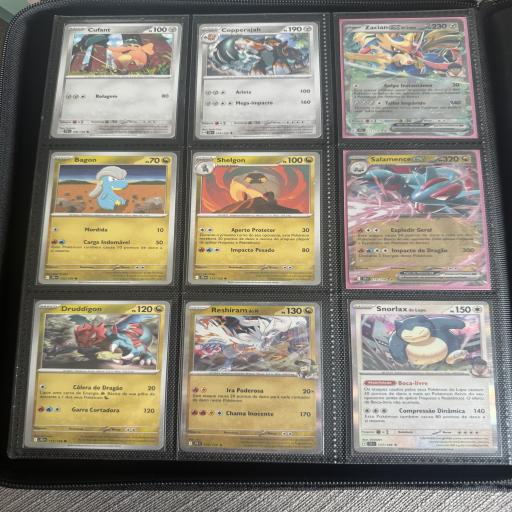card: (350, 296, 499, 457), (180, 298, 327, 454), (24, 299, 170, 450), (347, 150, 488, 287), (39, 150, 177, 284), (188, 152, 320, 286), (343, 19, 475, 140), (51, 22, 182, 138), (194, 22, 322, 139)
